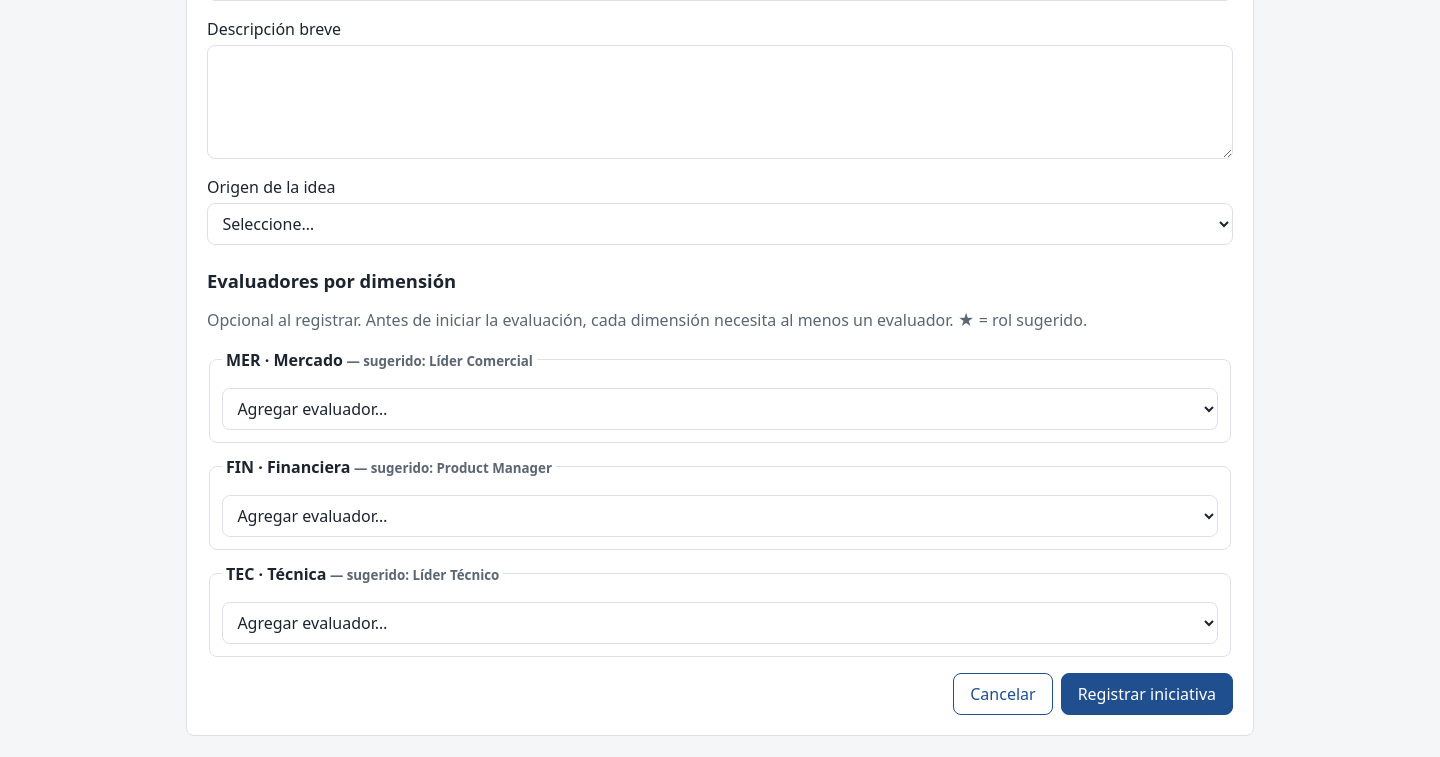
Scenario: validación local de campos obligatorios
(page scrolled)
Click the button "Registrar iniciativa" at point(1147, 694), box [1061,673,1233,715]
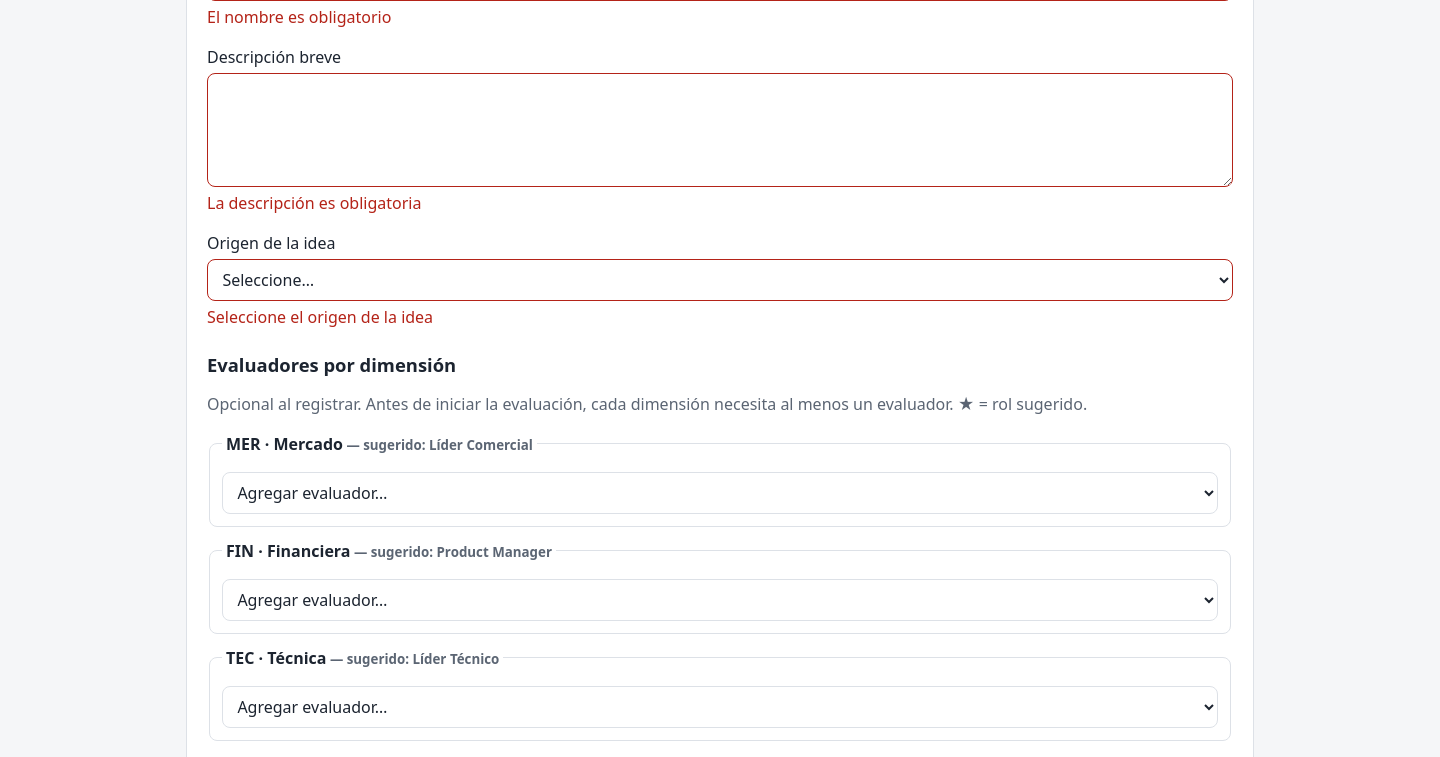
Result: the text "El nombre es obligatorio" is shown at [207,6,391,28]
Result: the text "Seleccione el origen de la idea" is shown at [207,306,433,328]
